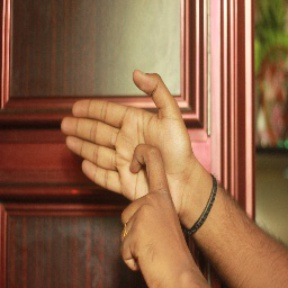R: (59, 67, 198, 264)
